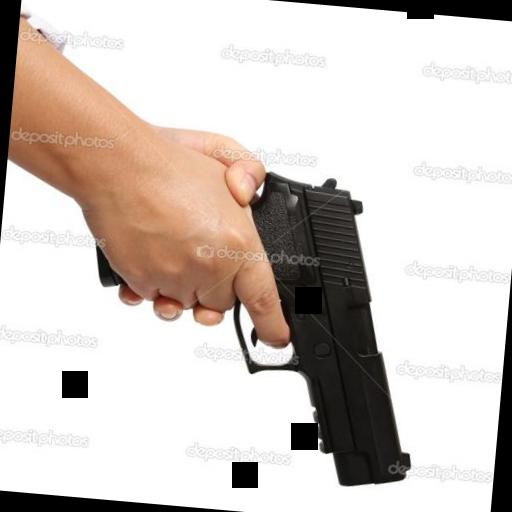Handgun: (36, 147, 450, 503)
